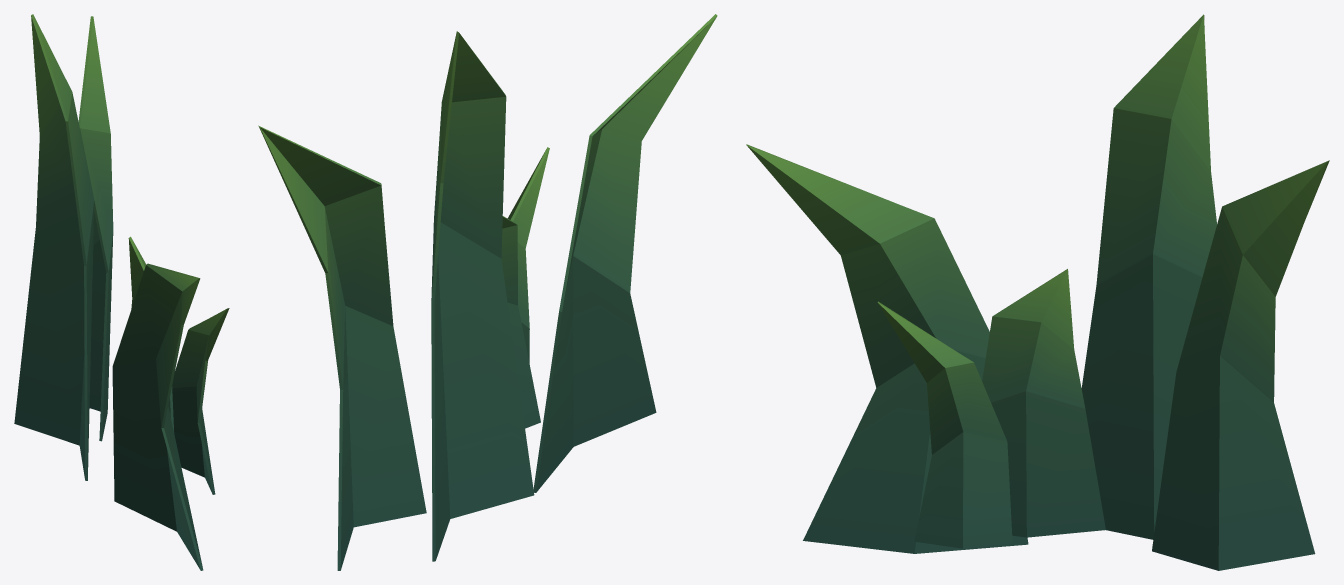
File: Grass-2-5.fbx
3 renders of one model, left to right at view 1: azimuth 30°, elevation 25°; view 2: azimuth 150°, elevation 25°; view 3: azimuth 270°, elevation 25°, orthographic. The views are drawn at different scales.
Parts seen in each view (by area): view 1: Grass-2-5; view 2: Grass-2-5; view 3: Grass-2-5.
Boxes of the visible parts, x1,y1,x2,y2 form: Grass-2-5: [14, 14, 229, 570]; Grass-2-5: [258, 14, 717, 570]; Grass-2-5: [746, 14, 1329, 570].
Size of the model in its own units: 23.3 by 71.05 by 71.6.
